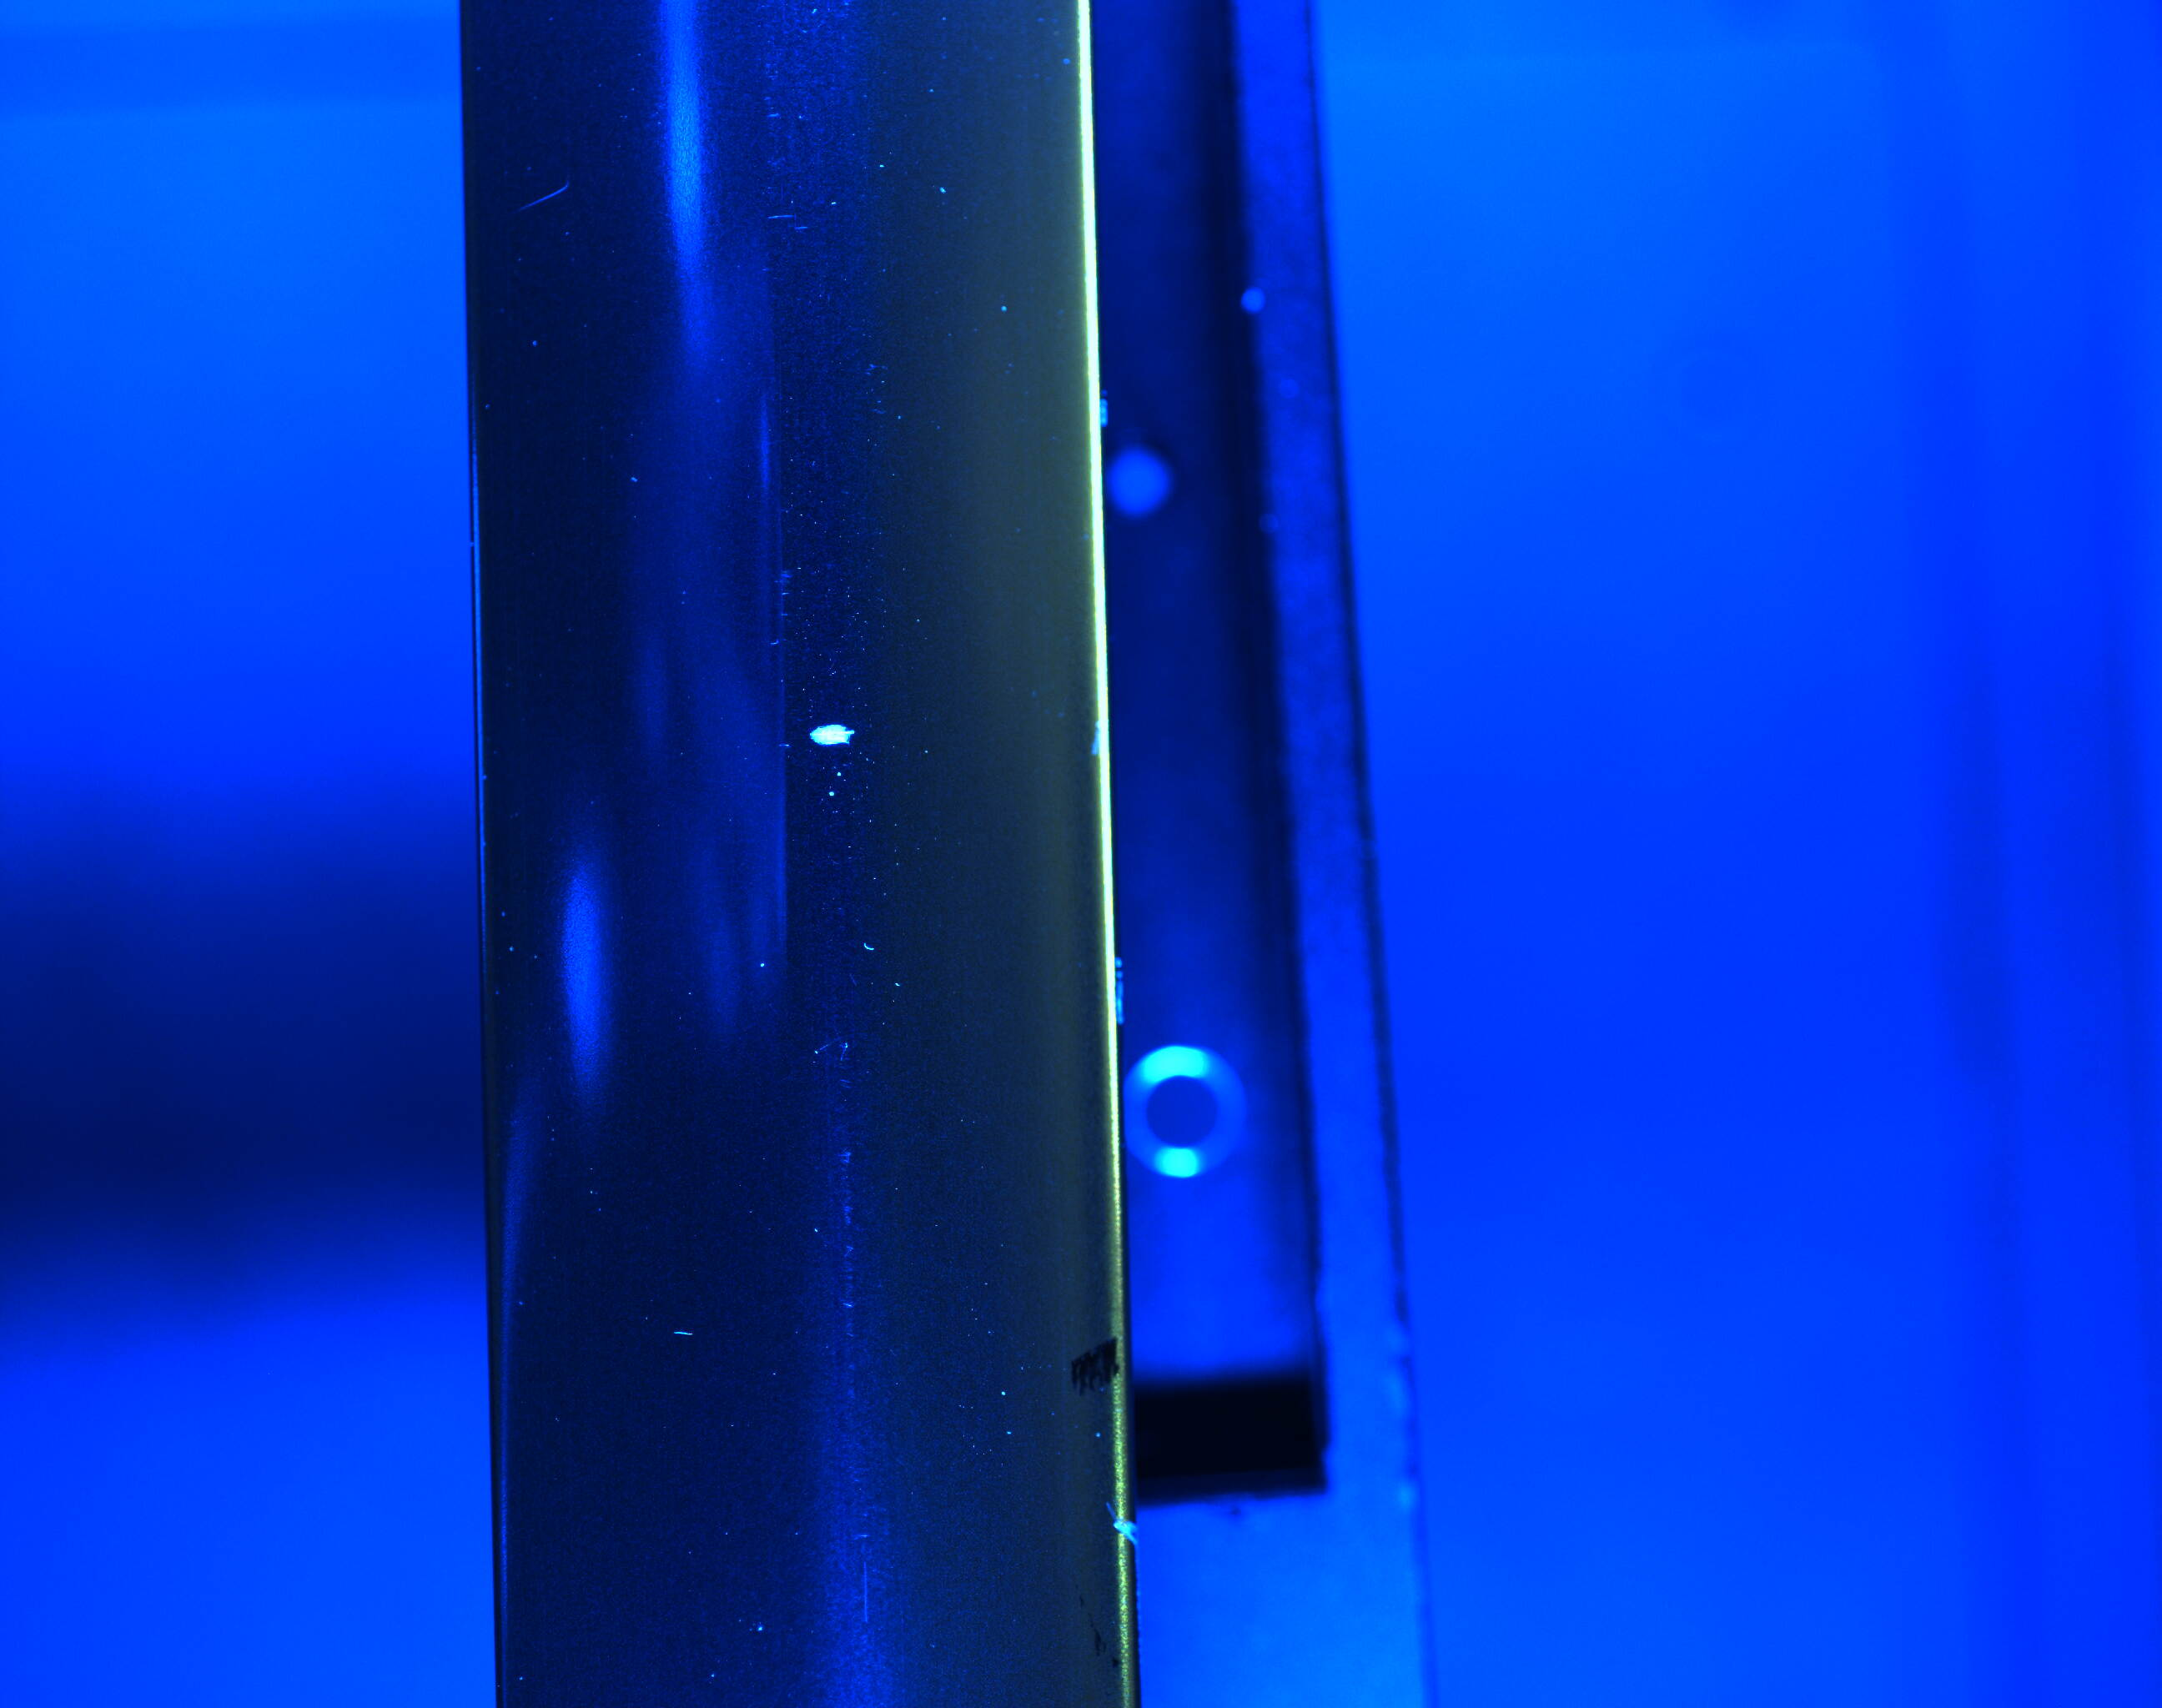NG: (788, 686, 890, 786), (512, 165, 579, 239), (658, 1310, 709, 1366)
